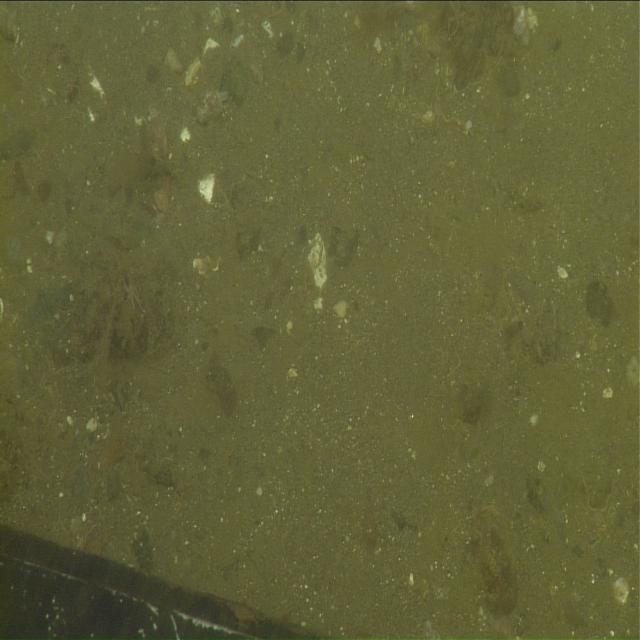Brittle Star: (118, 269, 146, 319)
